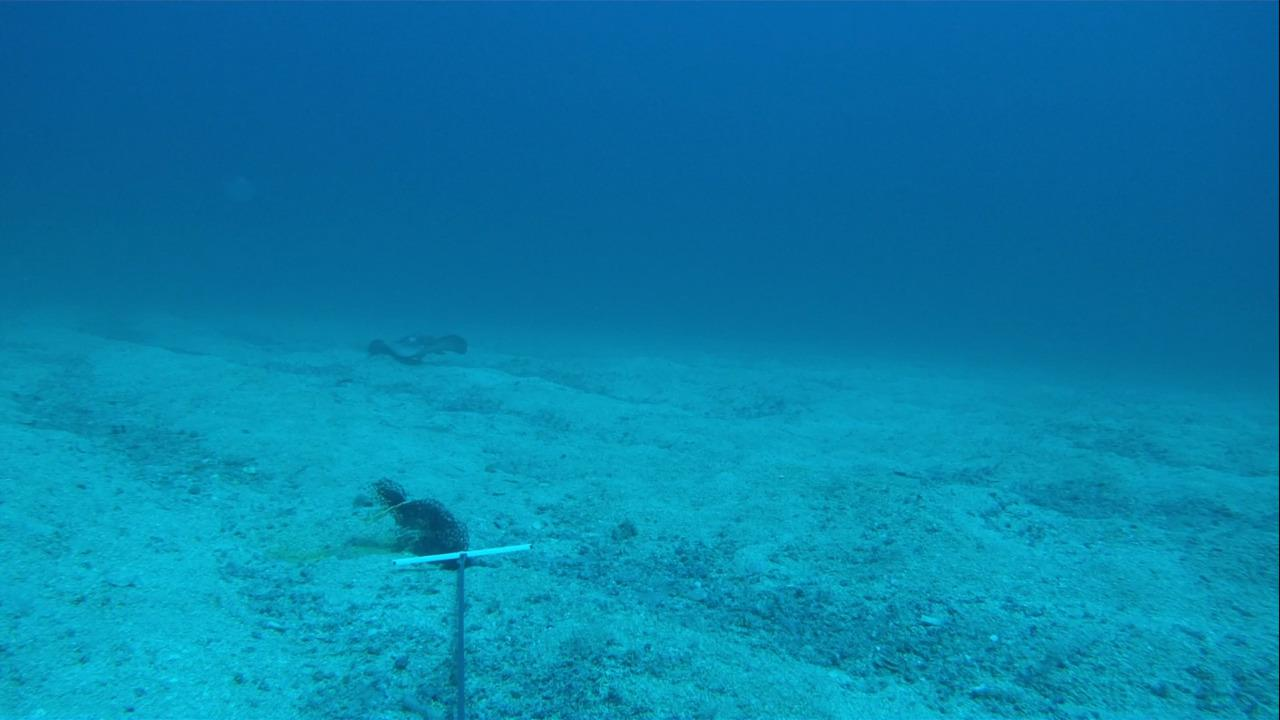myliobatis: (355, 317, 472, 368)
